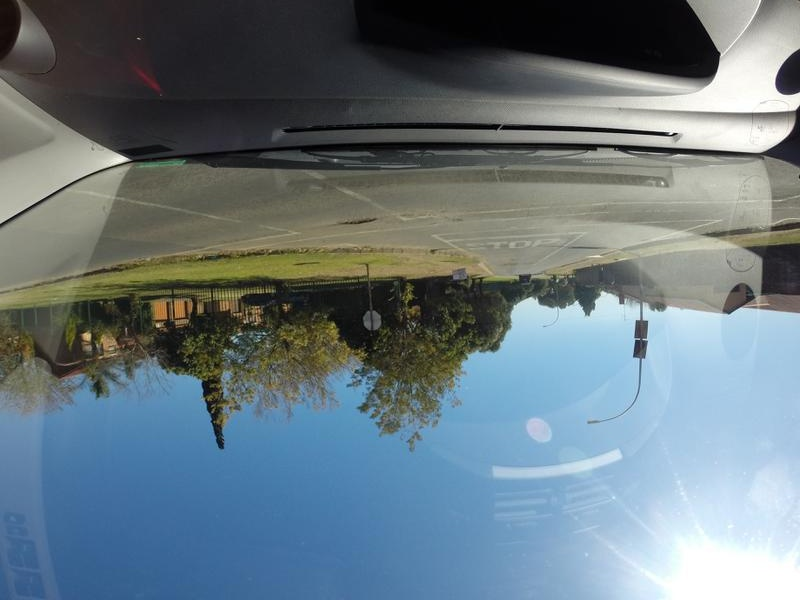pothole: (335, 217, 373, 225), (441, 215, 465, 223)
